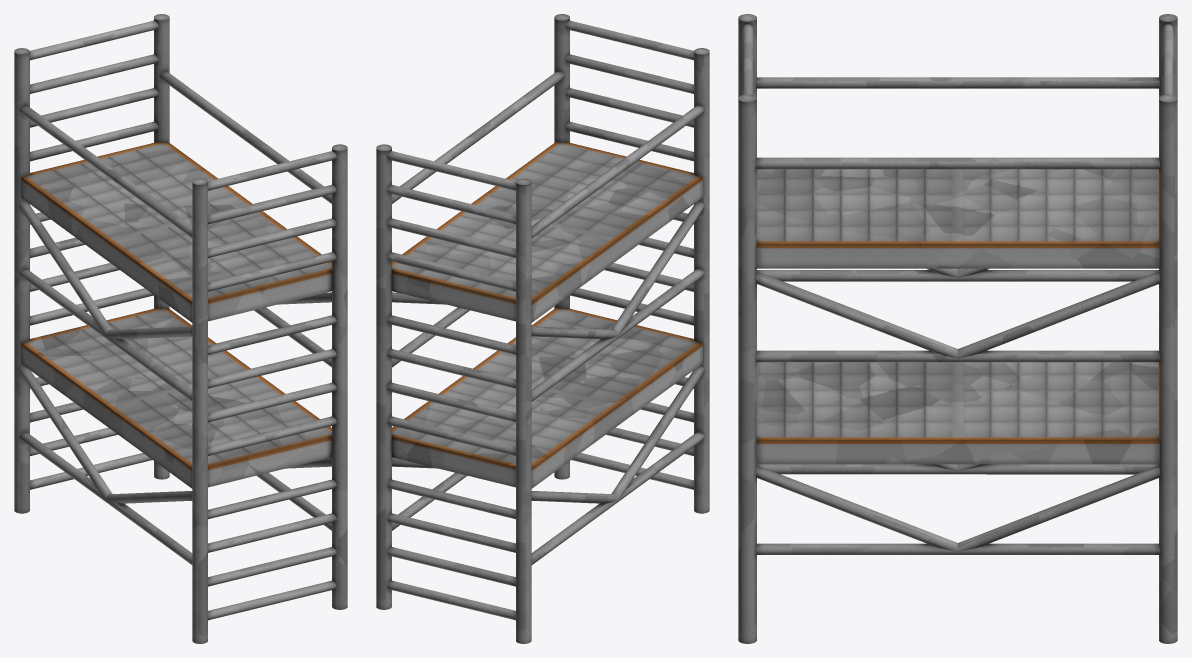
Rendered from ANDAMIO.fbx.
3 views of the same model, side by side, from view 1: azimuth 30°, elevation 25°; view 2: azimuth 150°, elevation 25°; view 3: azimuth 270°, elevation 25° (orthographic). The views are drawn at different scales.
Visible parts, largest first — view 1: ANDAMIO_Baked; view 2: ANDAMIO_Baked; view 3: ANDAMIO_Baked.
Part boxes in pixels (x1=…): ANDAMIO_Baked: x1=14, y1=14, x2=347, y2=643; ANDAMIO_Baked: x1=376, y1=14, x2=709, y2=643; ANDAMIO_Baked: x1=738, y1=14, x2=1177, y2=643.
Size of the model in its own units: 210 by 600 by 441.
1 material, 1 textured.
